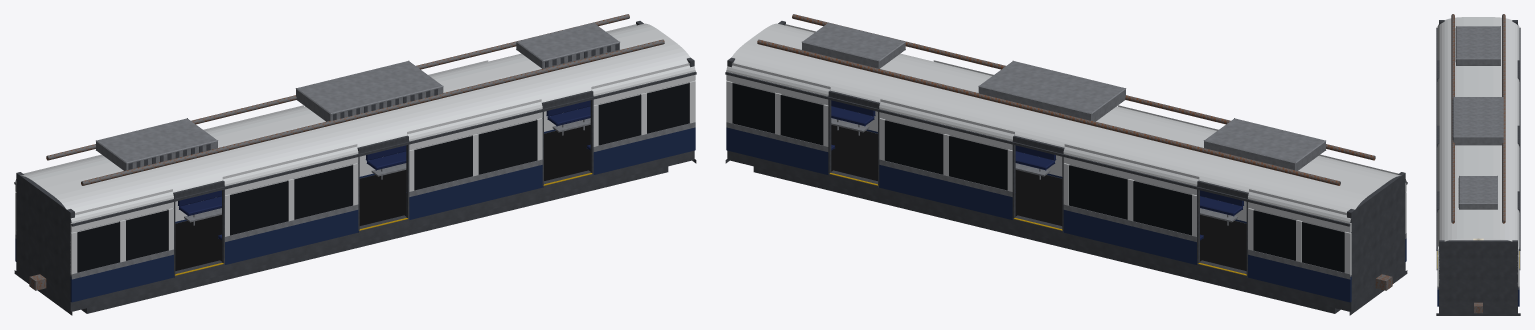
File: train_car_mid.obj
3 renders of one model, left to right at view 1: azimuth 30°, elevation 25°; view 2: azimuth 150°, elevation 25°; view 3: azimuth 270°, elevation 25°, orthographic. The views are drawn at different scales.
Parts seen in each view (by area): view 1: train_car_mid; view 2: train_car_mid; view 3: train_car_mid.
Boxes of the visible parts, box(x1,y1,x2,y2) form: train_car_mid: box(14, 14, 696, 315); train_car_mid: box(725, 14, 1407, 315); train_car_mid: box(1436, 14, 1520, 315).
Bounding box in the file's own units: 18.22 × 3.74 × 2.84.
